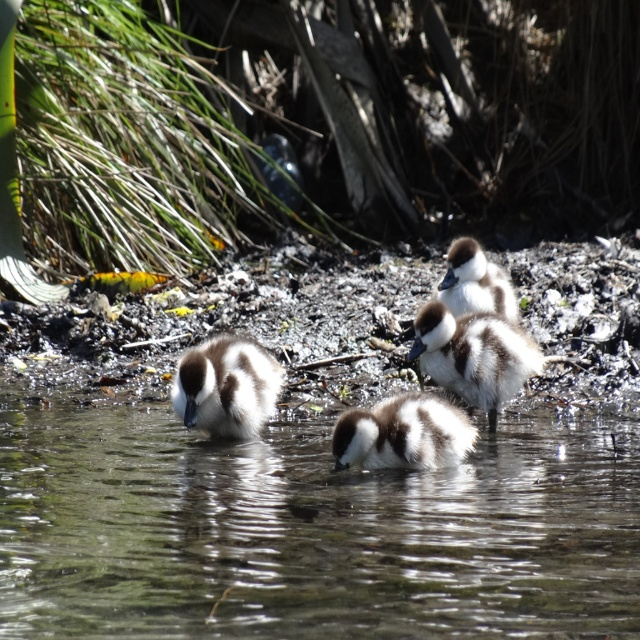Duck: (406, 299, 540, 443), (430, 231, 516, 434), (168, 320, 298, 453), (331, 388, 480, 489)
